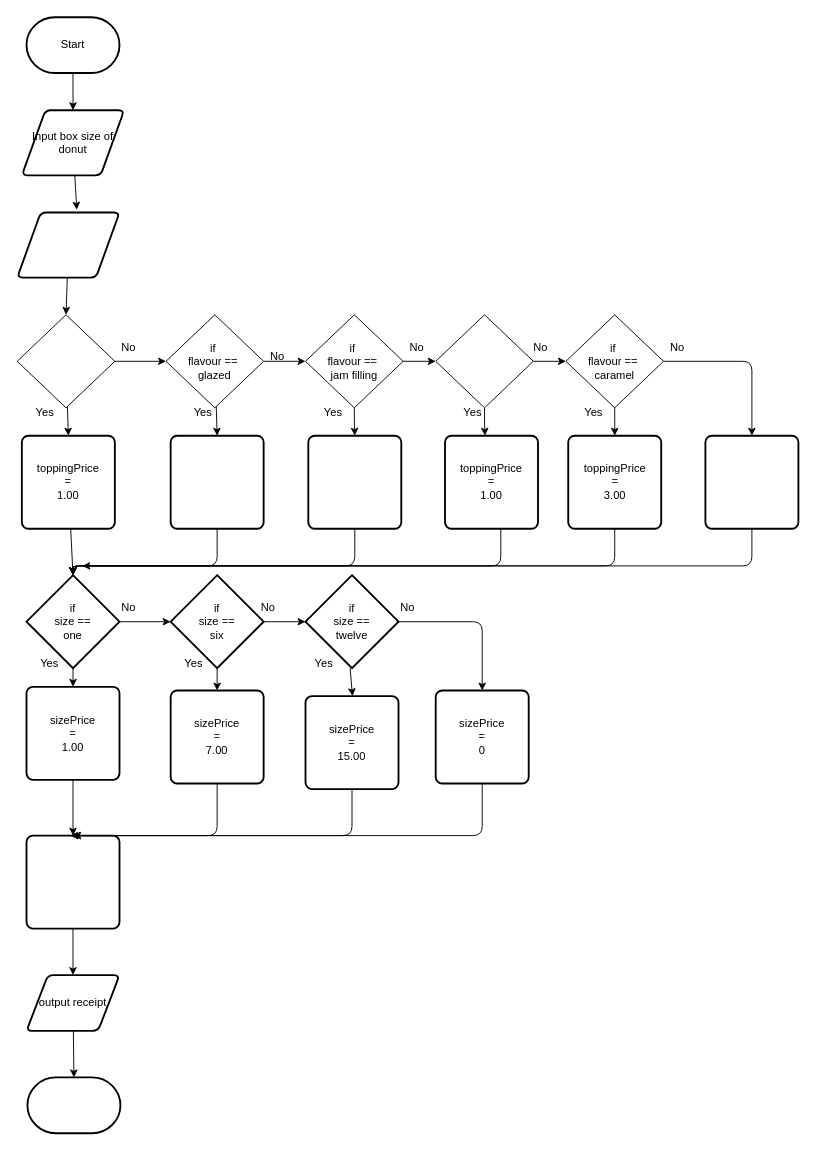
Some shapes in this 815 by 1149 pixel diagram are drawn without their labels. The shapes that lost their labels are listed below. From the top down, each one's centre as x and y in pixels, then its label:
the point at 68,244: Input topping
the point at 65,361: if flavour == sprinkles
the point at 484,361: if flavour == powdered sugar
the point at 216,481: toppingPrice = 2.00
the point at 354,481: toppingPrice = 1.50
the point at 751,481: toppingPrice = 0
the point at 72,881: totalPrice = sizePrice + toppingPrice * TAX_RATE
the point at 73,1105: Stop
